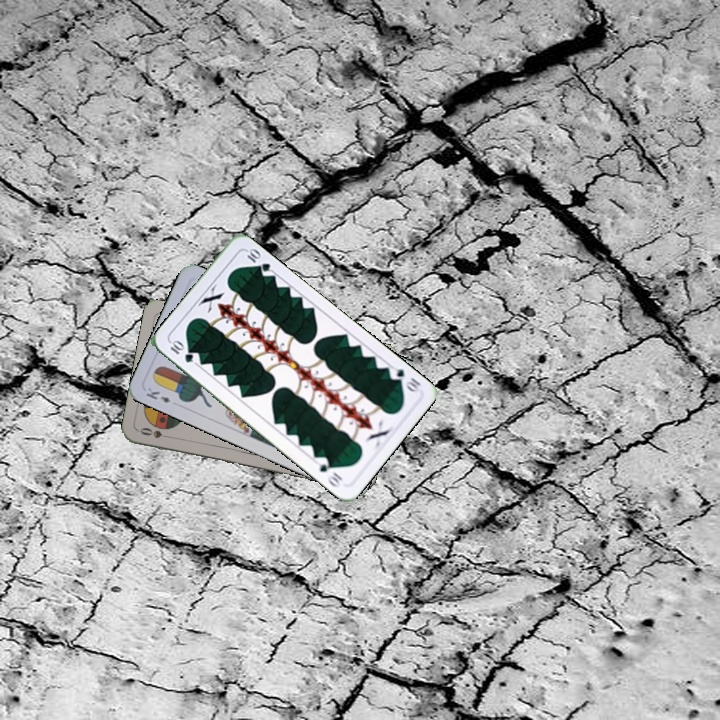EK: (142, 383, 173, 405)
G10: (385, 362, 424, 396), (166, 336, 196, 365)
SO: (135, 423, 176, 441)
